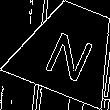N_NE: (39, 19, 99, 80)
